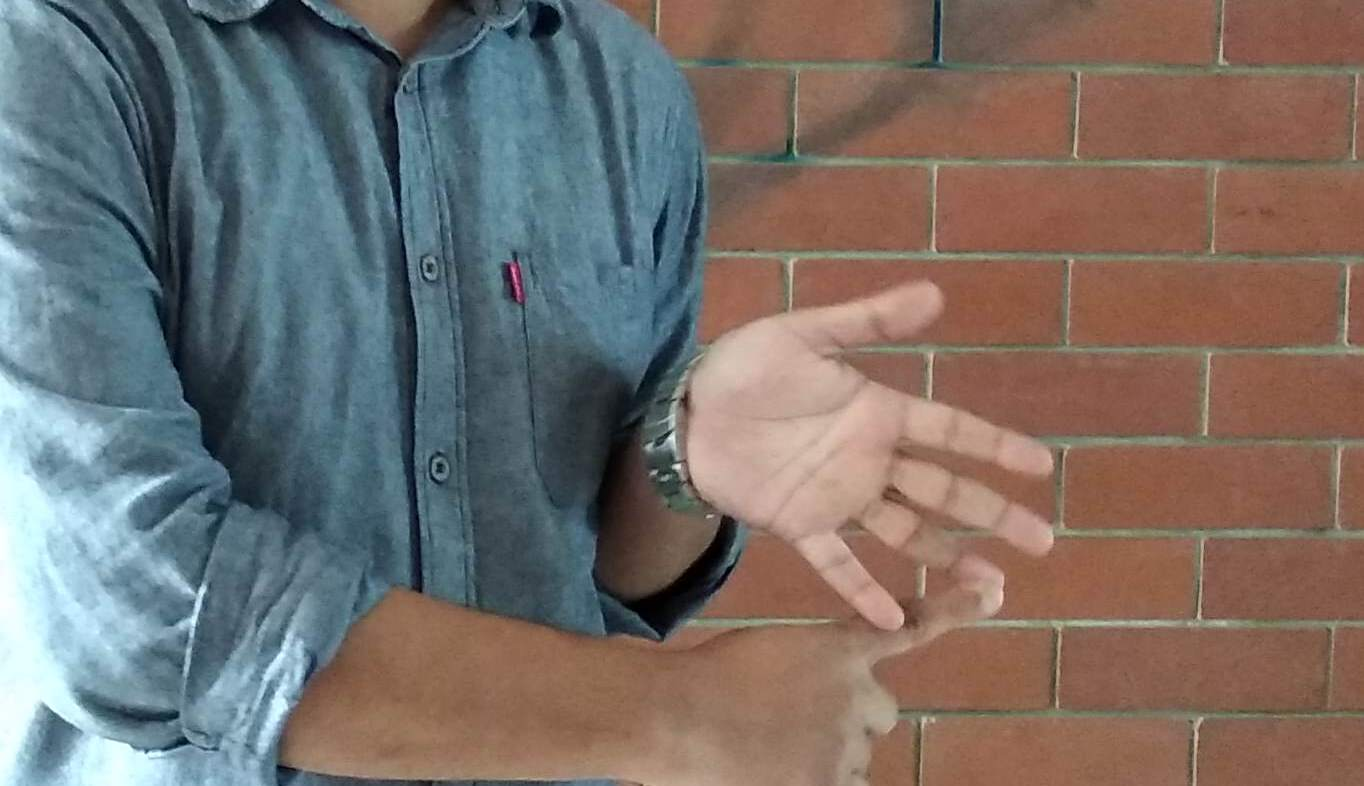e: (710, 331, 1051, 786)
